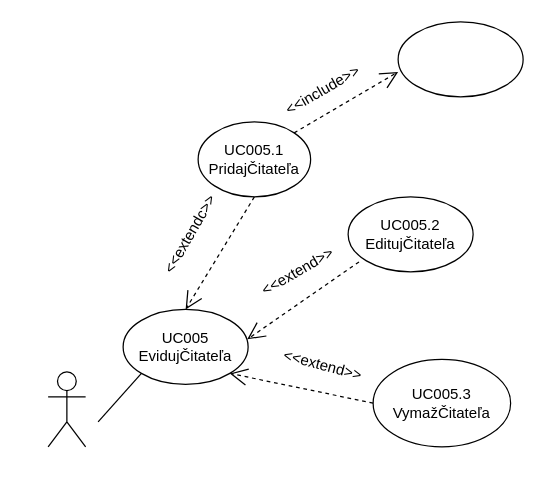
This 545x495 diagram has some shape labels left out. The centre of each missing label's shape, as x and y in pixels:
UC006.1 PridajPreukaz: pixel 460 59
Zamestnanec: pixel 66 409
